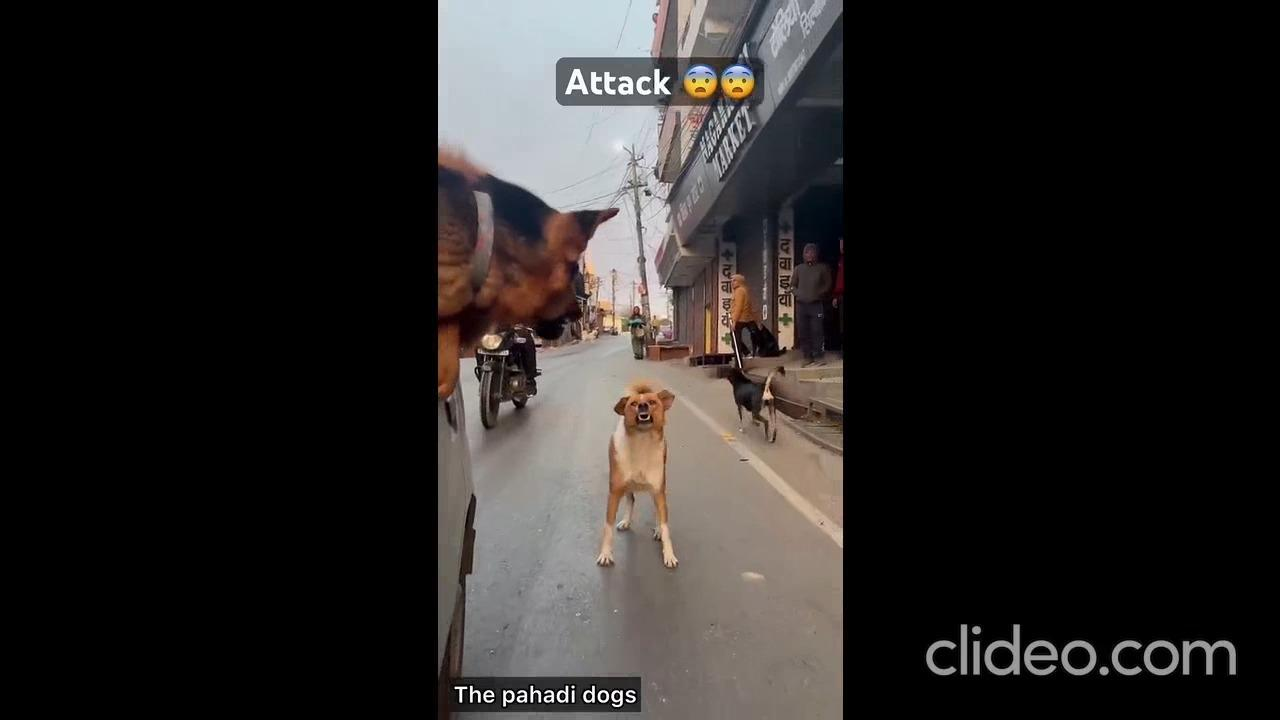dog: (593, 377, 694, 576)
